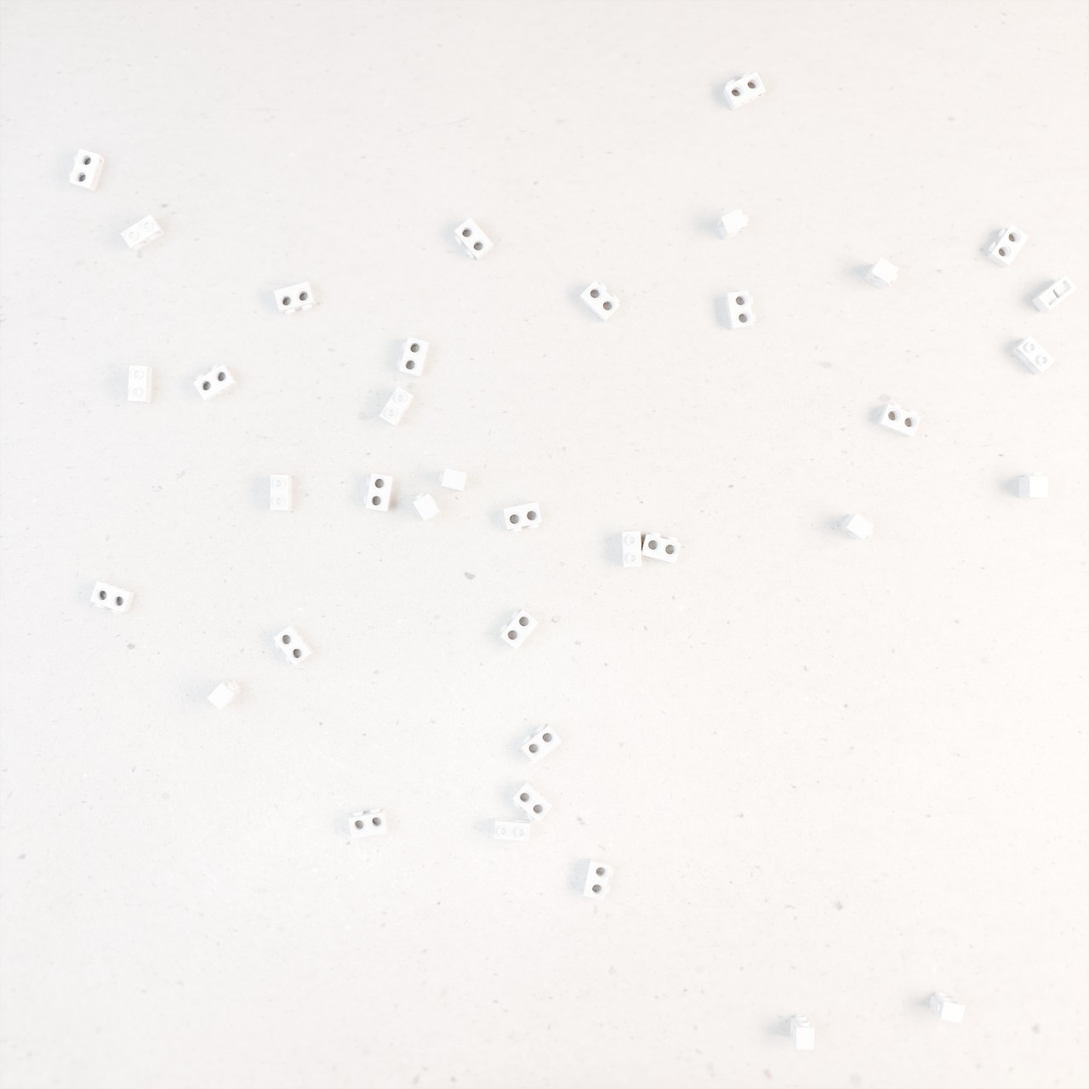lego: (987, 224, 1029, 269), (454, 217, 494, 261), (1011, 335, 1055, 375), (1032, 275, 1077, 314), (273, 624, 314, 666), (512, 780, 553, 822), (723, 71, 766, 111), (580, 280, 620, 323), (193, 364, 238, 402), (121, 214, 165, 252), (521, 724, 562, 764), (500, 608, 539, 650), (69, 148, 105, 193), (90, 580, 135, 615), (877, 403, 921, 438), (379, 386, 415, 427), (274, 281, 316, 315), (397, 337, 430, 378), (348, 807, 389, 839), (640, 532, 681, 564), (583, 858, 614, 900), (725, 290, 756, 331), (503, 502, 542, 533), (364, 473, 394, 512), (864, 257, 899, 290), (930, 991, 965, 1024), (207, 679, 242, 710), (717, 209, 749, 240), (840, 513, 874, 540), (128, 365, 152, 403), (494, 817, 531, 841), (790, 1014, 814, 1050), (413, 492, 442, 521), (270, 475, 292, 511), (1019, 472, 1048, 499), (621, 531, 642, 567), (439, 468, 468, 492)
